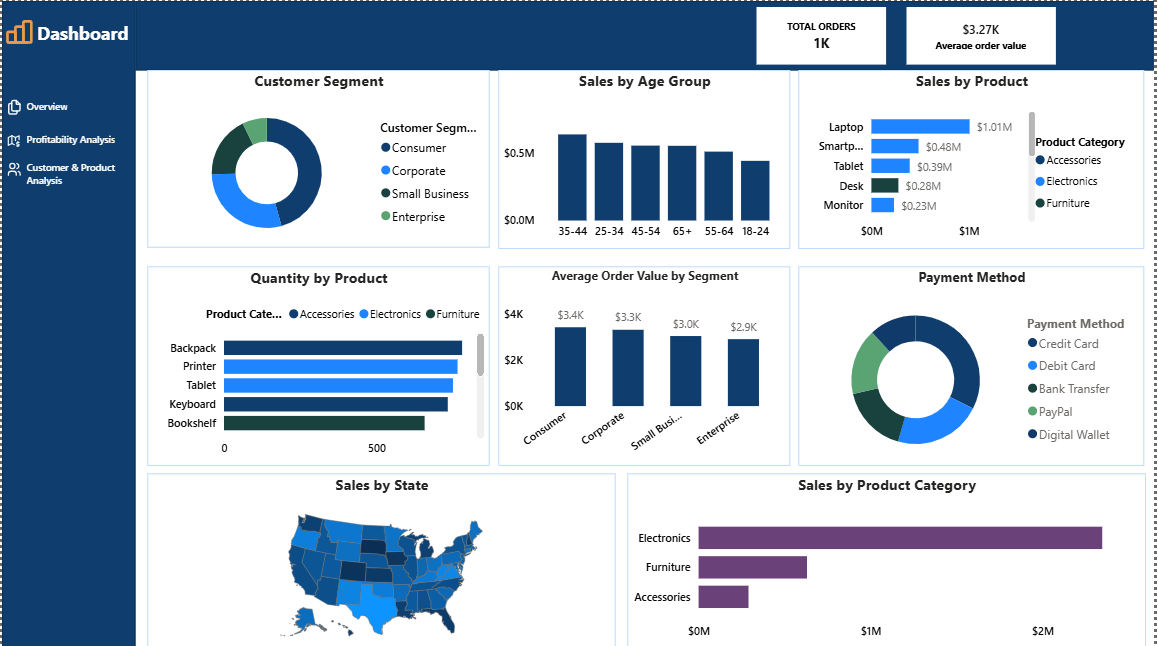

This screenshot's page, from the dashboard's own definition file:
{"tool":"powerbi","page":{"name":"Page 3","canvas":[1280,720],"ordinal":2},"visuals":[{"type":"shape","box":[0,0,148.3,720],"z":0},{"type":"shape","box":[148.6,0,1131.4,77.1],"z":1000},{"type":"actionButton","box":[35,15,125,40],"z":2000},{"type":"actionButton","box":[23.3,96.7,125,40],"z":3000},{"type":"actionButton","box":[23,134,125,40],"z":4000},{"type":"actionButton","box":[23,171,125,40],"z":5000},{"type":"image","box":[2,14,35,42],"z":6000},{"type":"image","box":[3,107,20,23],"z":7000},{"type":"image","box":[5,141,16,27],"z":8000},{"type":"image","box":[5,178,17,17],"z":9000},{"type":"donutChart","title":"Customer Segment","fields":{"Category":["business_dataset.Customer_Segment"],"Y":["Sum(business_dataset.Sales)"]},"box":[161.4,77.1,380,197.1],"z":10000},{"type":"columnChart","title":"Sales by Age Group","fields":{"Category":["business_dataset.Age Group"],"Y":["Sum(business_dataset.Sales)"]},"box":[551.4,77.1,324.3,198.6],"z":11000},{"type":"barChart","title":"Sales by Product","fields":{"Category":["business_dataset.Product"],"Y":["Sum(business_dataset.Sales)"],"Series":["business_dataset.Product_Category"]},"box":[885.7,77.1,384.3,198.6],"z":12000},{"type":"barChart","title":"Quantity by Product","fields":{"Category":["business_dataset.Product"],"Y":["Sum(business_dataset.Quantity)"],"Series":["business_dataset.Product_Category"]},"box":[161.4,294.3,380,221.4],"z":13000},{"type":"columnChart","title":"Average Order Value by Segment","fields":{"Category":["business_dataset.Customer_Segment"],"Y":["Sheet1.Average order value"]},"box":[551.4,294.3,324.3,221.4],"z":14000},{"type":"donutChart","title":"Payment Method","fields":{"Category":["business_dataset.Payment_Method"],"Y":["Sum(business_dataset.Sales)"]},"box":[885.7,294.3,384.3,221.4],"z":15000},{"type":"shapeMap","title":"Sales by State","fields":{"Category":["business_dataset.State"],"Value":["Sum(business_dataset.Sales)"]},"box":[161.4,525.7,520,194.3],"z":16000},{"type":"barChart","title":"Sales by Product Category","fields":{"Category":["business_dataset.Product_Category"],"Y":["Sum(business_dataset.Sales)"]},"box":[694.3,525.7,575.7,194.3],"z":17000},{"type":"cardVisual","fields":{"Data":["Sheet1.Total Orders"]},"box":[838.6,7.1,144.3,64.3],"z":18000},{"type":"cardVisual","fields":{"Data":["Sheet1.Average order value"]},"box":[1005.7,7.1,165.7,64.3],"z":19000}]}

Visuals, with their boxes on the page's 1280x720 design canvas (x1, y1, x2, y2). These are canvas units, not pixel positions in the 1158x646 screenshot, which may show the page scaled, cropped or inside an application window:
shape: 0:0:148:720
shape: 149:0:1280:77
actionButton: 35:15:160:55
actionButton: 23:97:148:137
actionButton: 23:134:148:174
actionButton: 23:171:148:211
image: 2:14:37:56
image: 3:107:23:130
image: 5:141:21:168
image: 5:178:22:195
"Customer Segment" donutChart: 161:77:541:274
"Sales by Age Group" columnChart: 551:77:876:276
"Sales by Product" barChart: 886:77:1270:276
"Quantity by Product" barChart: 161:294:541:516
"Average Order Value by Segment" columnChart: 551:294:876:516
"Payment Method" donutChart: 886:294:1270:516
"Sales by State" shapeMap: 161:526:681:720
"Sales by Product Category" barChart: 694:526:1270:720
cardVisual - Sheet1.Total Orders: 839:7:983:71
cardVisual - Sheet1.Average order value: 1006:7:1171:71
